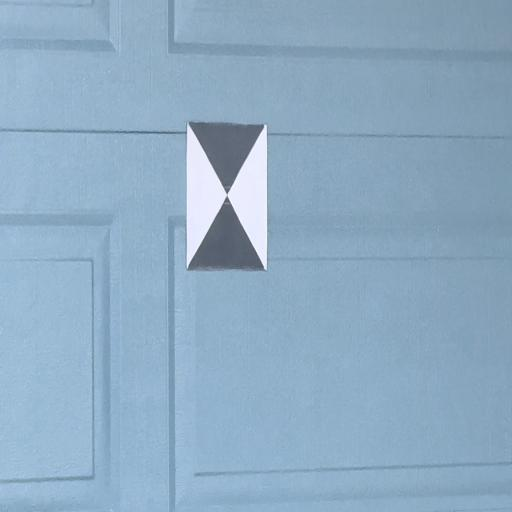target: (188, 123, 267, 269)
